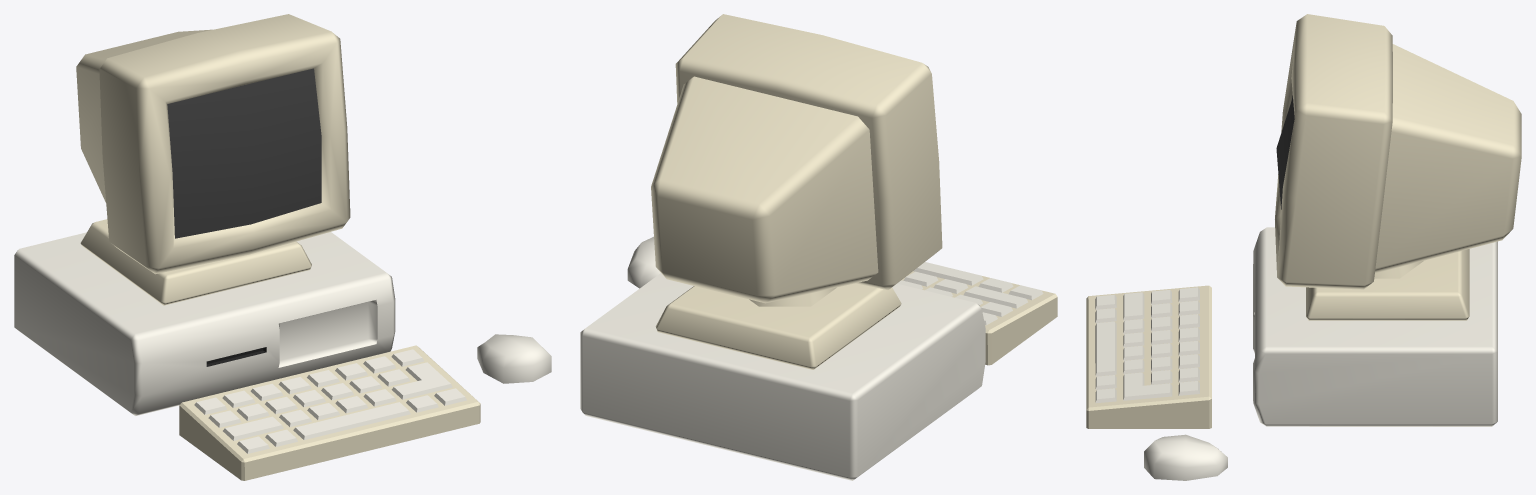
Rendered from electronics_002.fbx.
3 views of the same model, side by side, from view 1: azimuth 30°, elevation 25°; view 2: azimuth 150°, elevation 25°; view 3: azimuth 270°, elevation 25° (orthographic). The views are drawn at different scales.
Visible parts, largest first — view 1: electronics_002; view 2: electronics_002; view 3: electronics_002.
Part boxes in pixels (x1=…): electronics_002: x1=14, y1=14, x2=551, y2=480; electronics_002: x1=580, y1=14, x2=1057, y2=480; electronics_002: x1=1086, y1=14, x2=1521, y2=480.
Bounding box in the file's own units: 104 × 109 × 86.43.
